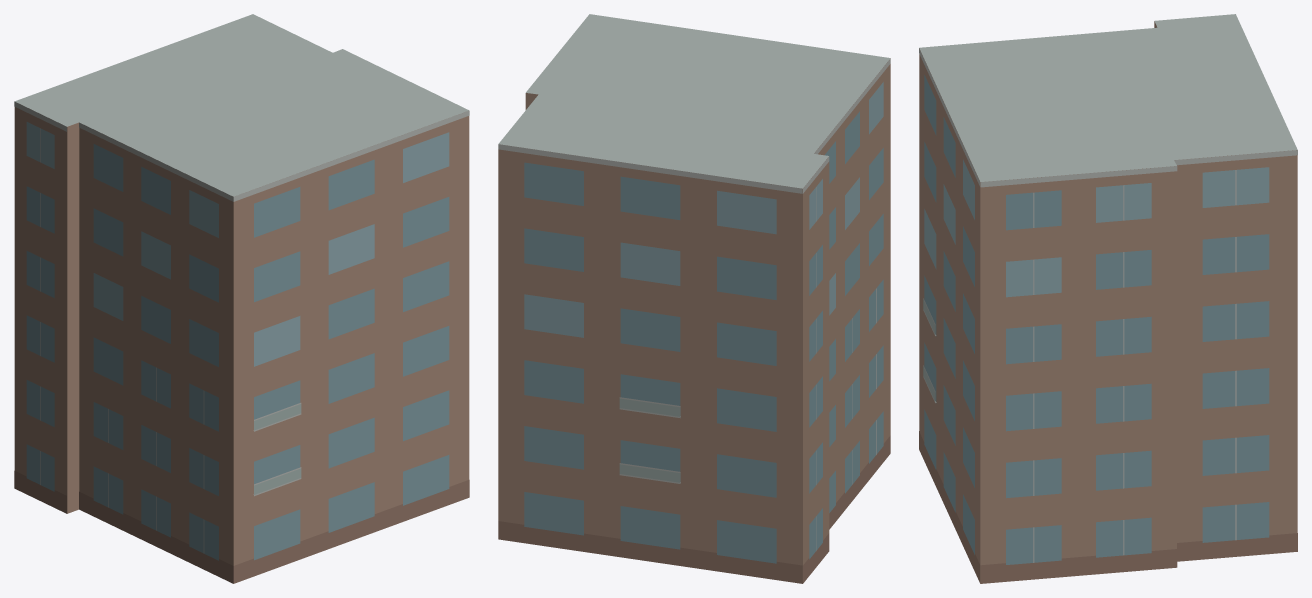
Rendered from survey-upis-32584644.glb.
3 renders of one model, left to right at view 1: azimuth 30°, elevation 25°; view 2: azimuth 150°, elevation 25°; view 3: azimuth 270°, elevation 25°, orthographic. The views are drawn at different scales.
Visible parts, largest first — view 1: survey-upis-32584644.tmp; view 2: survey-upis-32584644.tmp; view 3: survey-upis-32584644.tmp.
Part boxes in pixels (left/top/right/bottom): survey-upis-32584644.tmp: left=14, top=14, right=469, bottom=583; survey-upis-32584644.tmp: left=498, top=14, right=890, bottom=583; survey-upis-32584644.tmp: left=919, top=14, right=1297, bottom=583.
Bounding box in the file's own units: 16.43 × 18.3 × 15.64.
